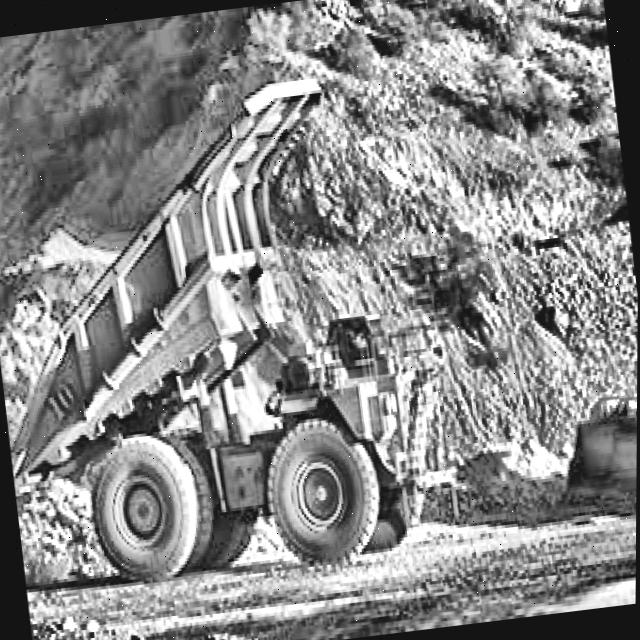buldozerpayloadergrader: (534, 313, 638, 562)
dump_truck: (0, 44, 461, 595)
